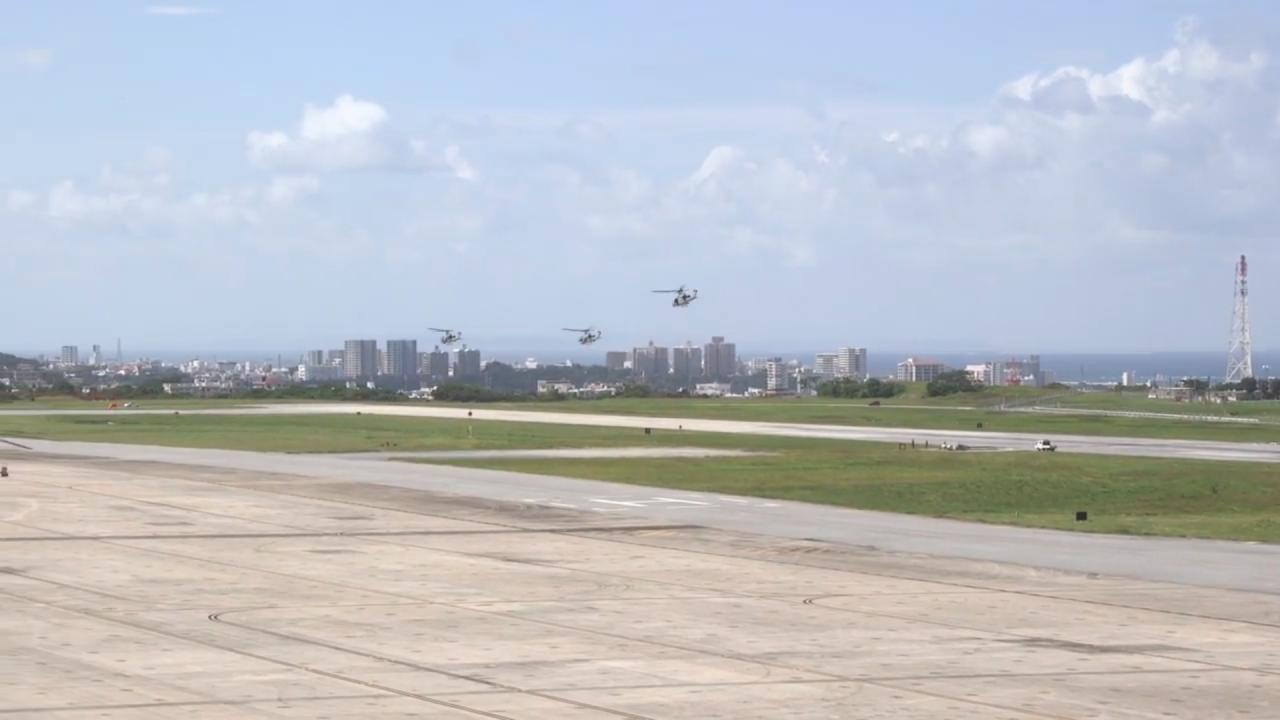Helicopter: (636, 265, 722, 321), (552, 310, 616, 358), (416, 315, 483, 356)
